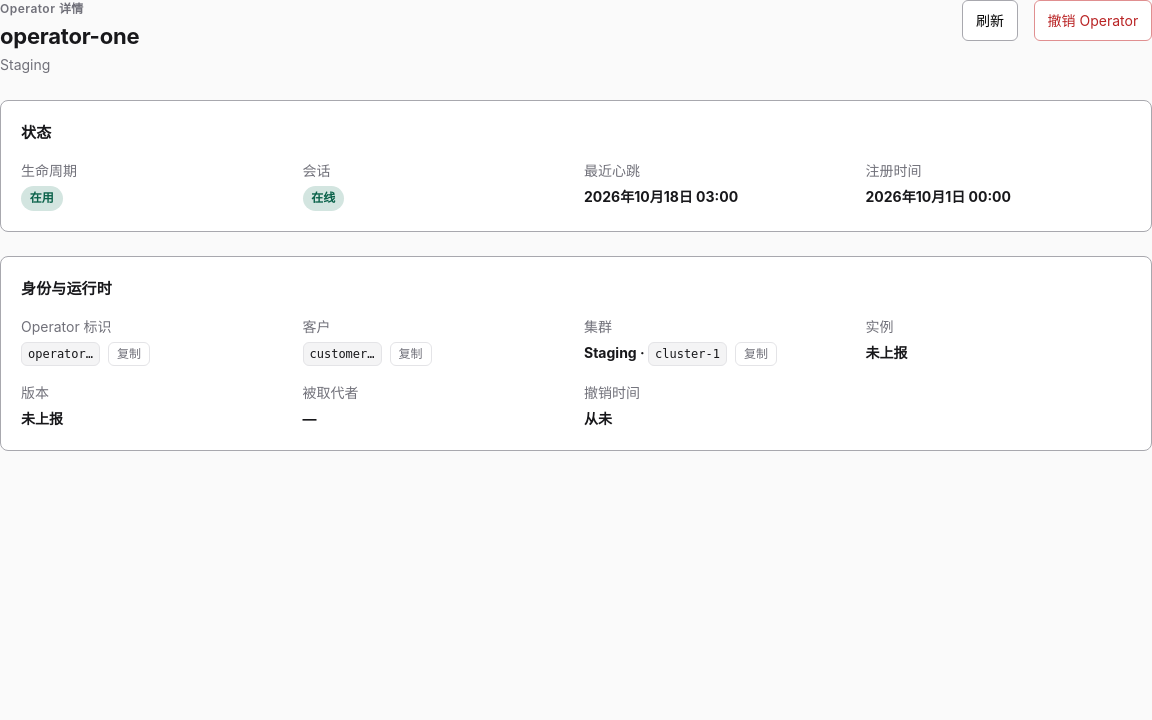
Test case: operator revocation feedback (W10) › announces a successful revocation from the detail page
Click the button "撤销 Operator" at (1093, 21), box [1034, 0, 1151, 41]
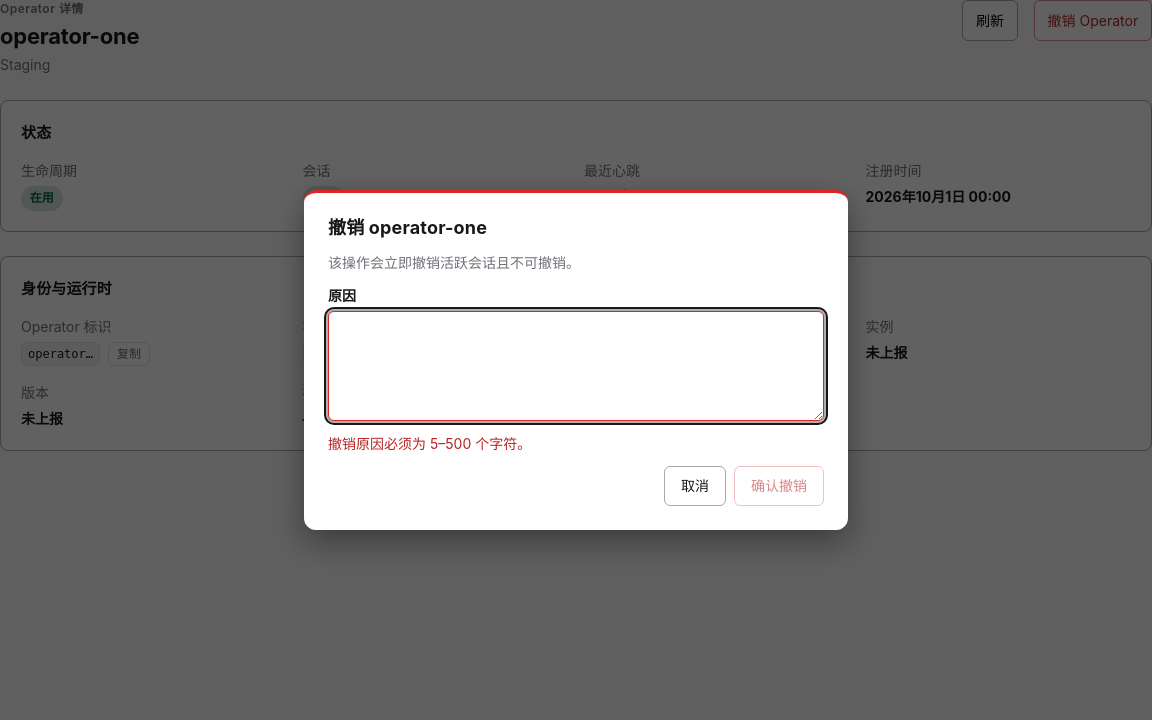
Type "compromised credential" into the text box labelled "原因" at (576, 366), box [328, 311, 824, 420]
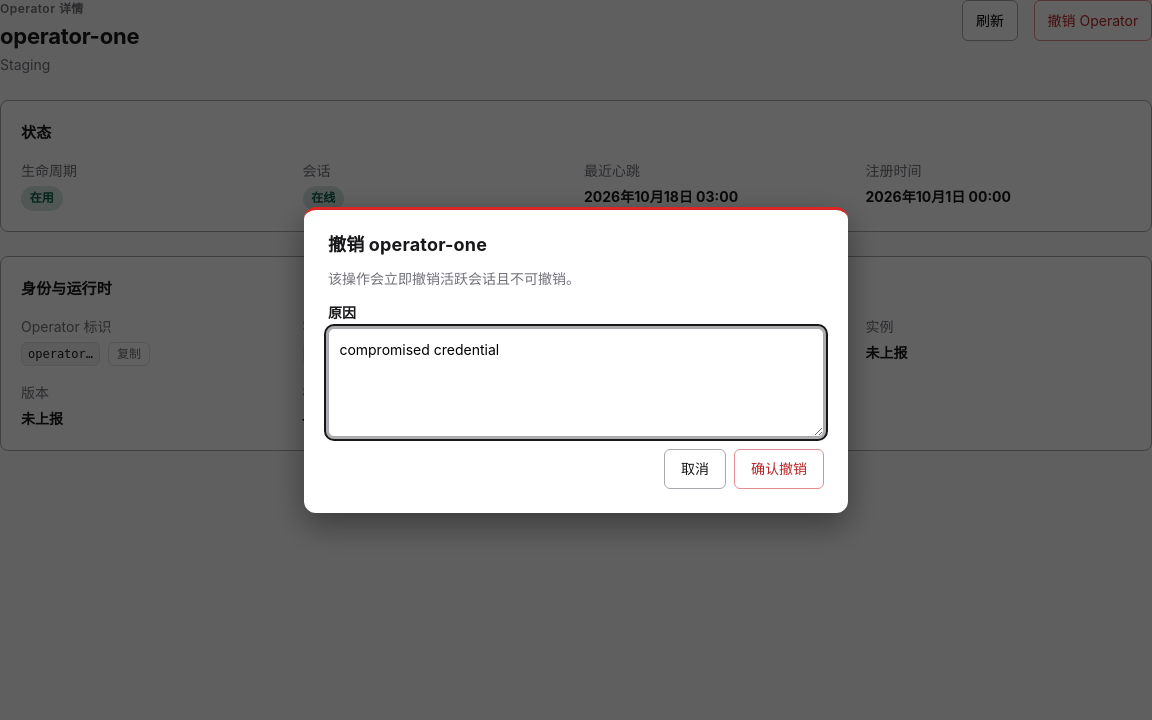
Click the button "确认撤销" at (779, 469), box [734, 449, 824, 489]
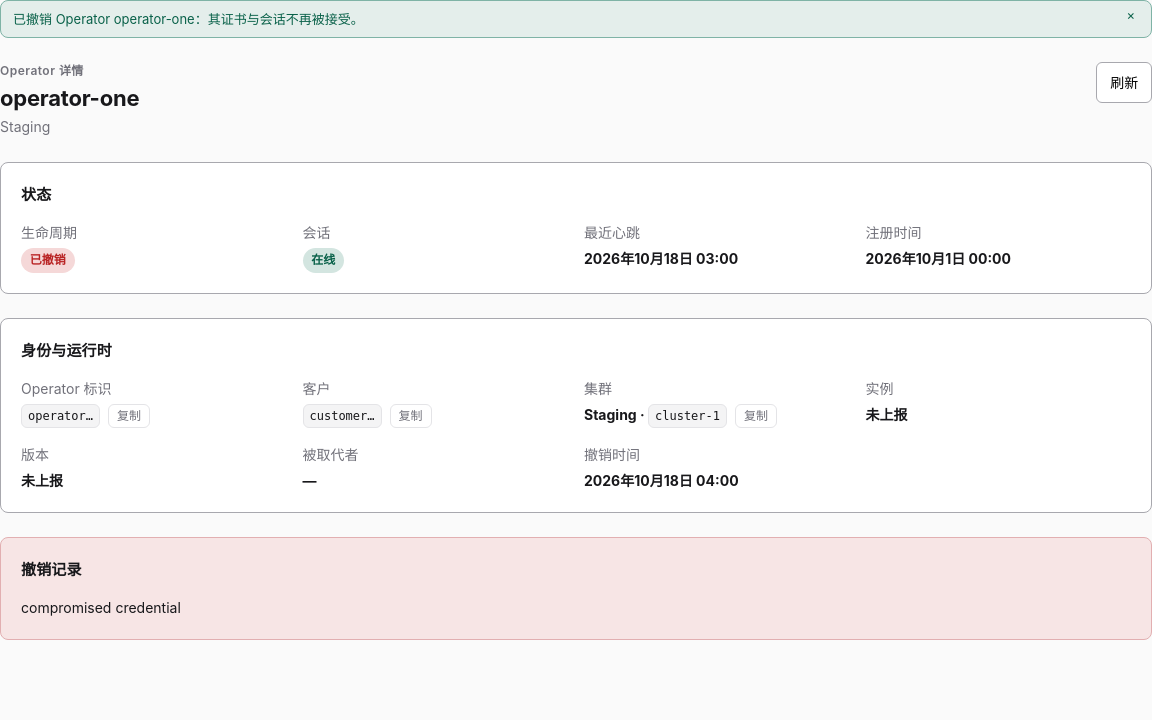
expect the message with test id "operator-detail-notice" shows "已撤销 Operator operator-one": met, box [13, 11, 364, 27]
